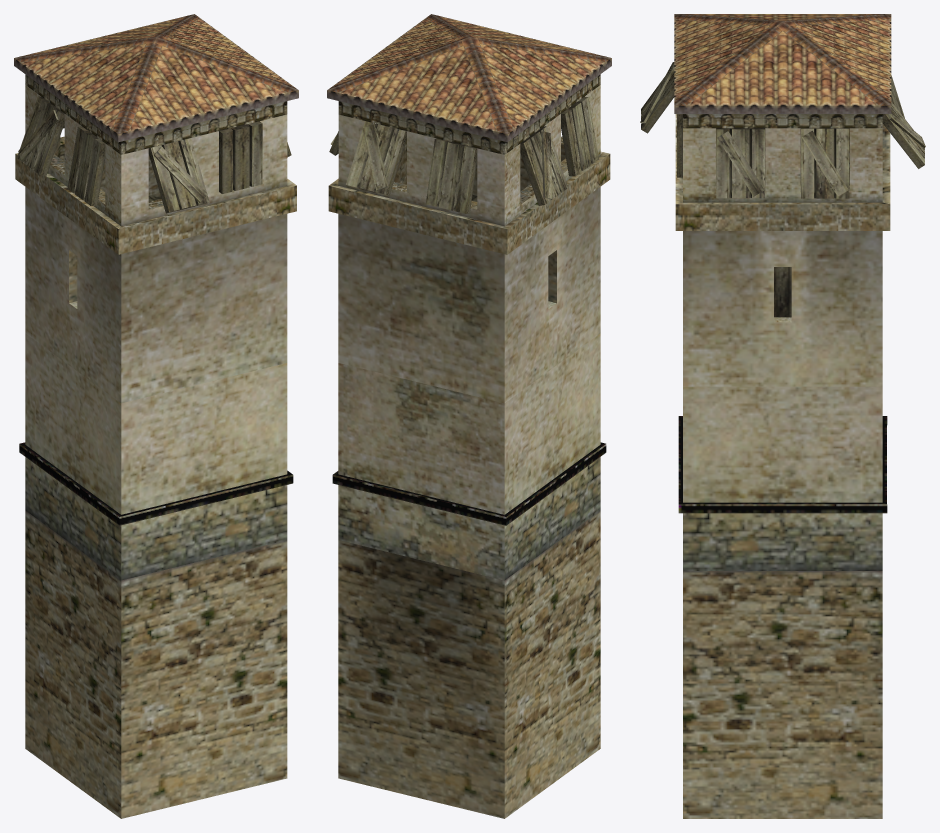
The model's file is athen_tower.glb.
The picture shows the model from 3 angles, left to right: view 1: azimuth 30°, elevation 25°; view 2: azimuth 150°, elevation 25°; view 3: azimuth 270°, elevation 25°; orthographic projection. The views are drawn at different scales.
Visible parts, largest first — view 1: athen_tower_part0; view 2: athen_tower_part0; view 3: athen_tower_part0.
Boxes of the visible parts, x1=… form: athen_tower_part0: x1=14, y1=14, x2=298, y2=818; athen_tower_part0: x1=327, y1=14, x2=611, y2=818; athen_tower_part0: x1=640, y1=14, x2=925, y2=818.
Bounding box in the file's own units: 2.02 × 6.41 × 2.2.
Materials: 3 (3 with a texture image).
